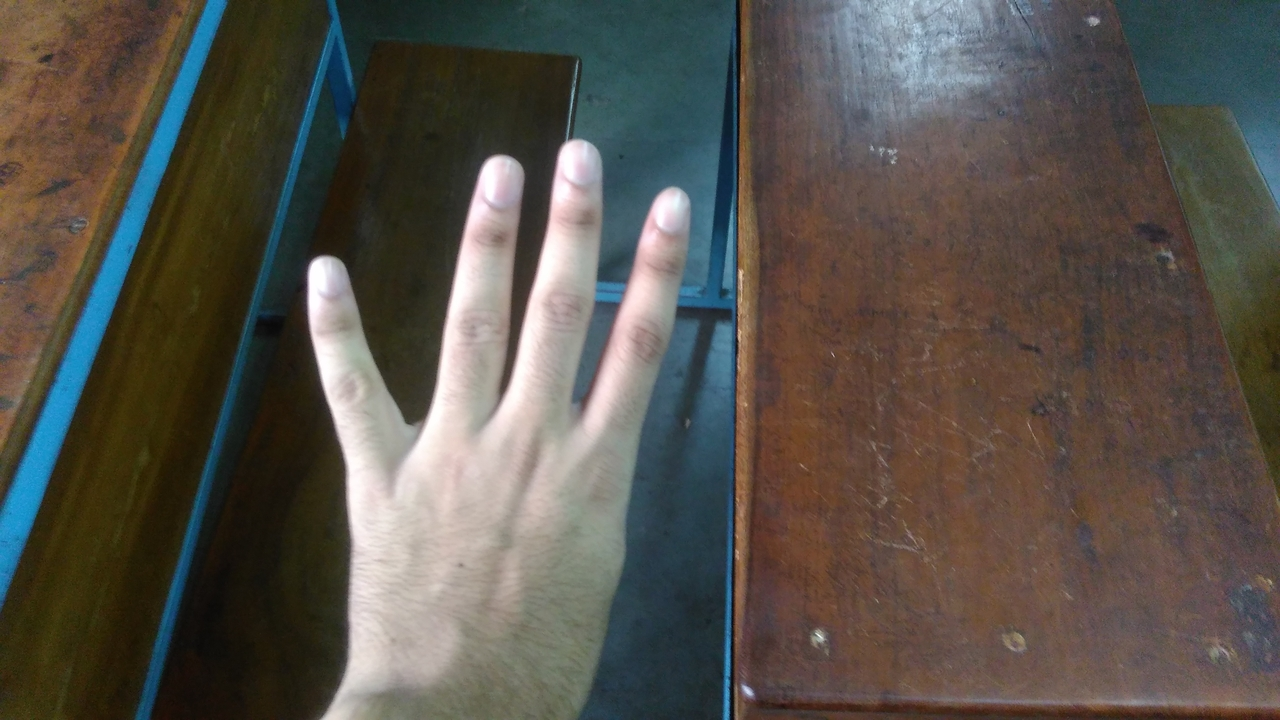fingertip: (462, 150, 530, 214), (546, 134, 610, 196), (292, 250, 354, 314), (634, 178, 696, 242)
